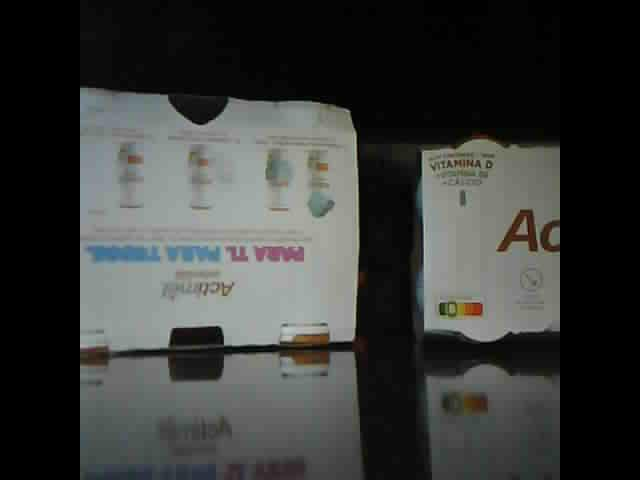actimel: (81, 87, 361, 355), (418, 137, 560, 343)
